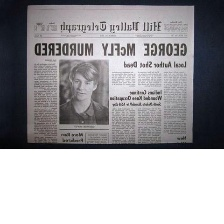news_paper: (24, 2, 201, 145)
